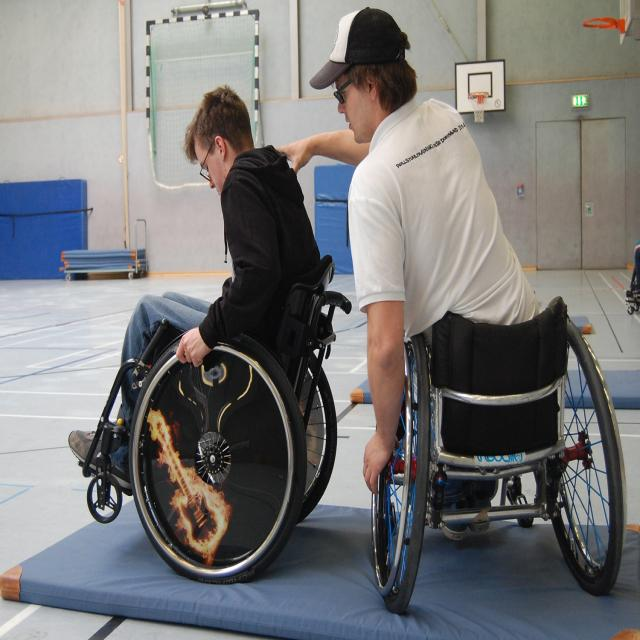wheelchairs: (60, 252, 352, 588), (366, 292, 631, 635)
